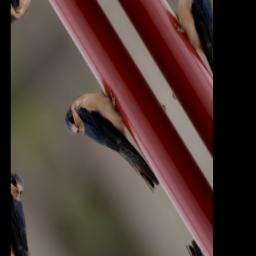Swallow: (58, 69, 169, 226)
